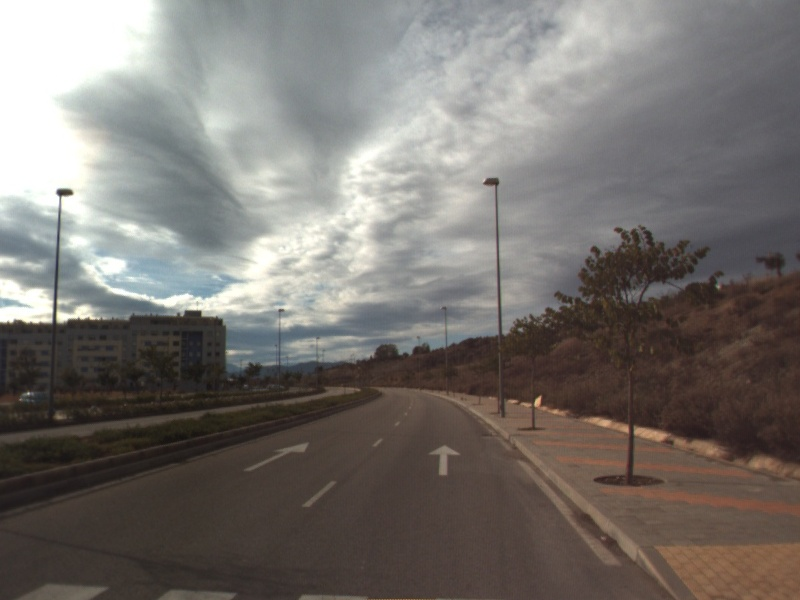STRAIGHT: (241, 440, 312, 473), (426, 442, 463, 477)
